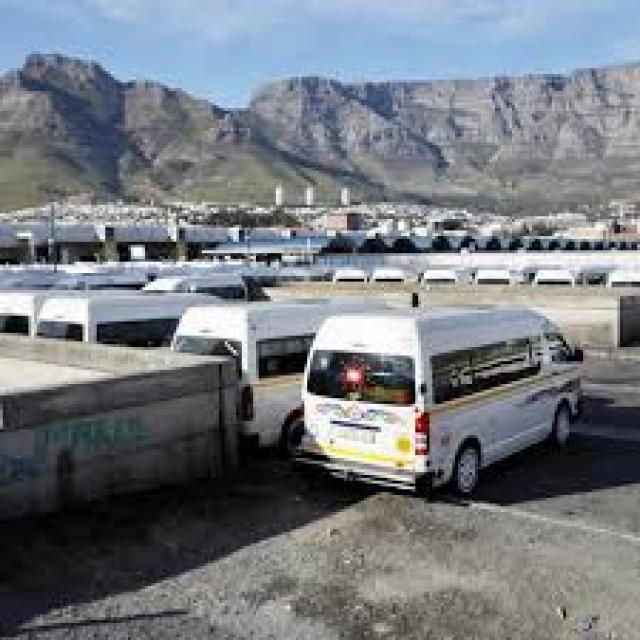MiniBus taxi: (296, 307, 589, 501)
